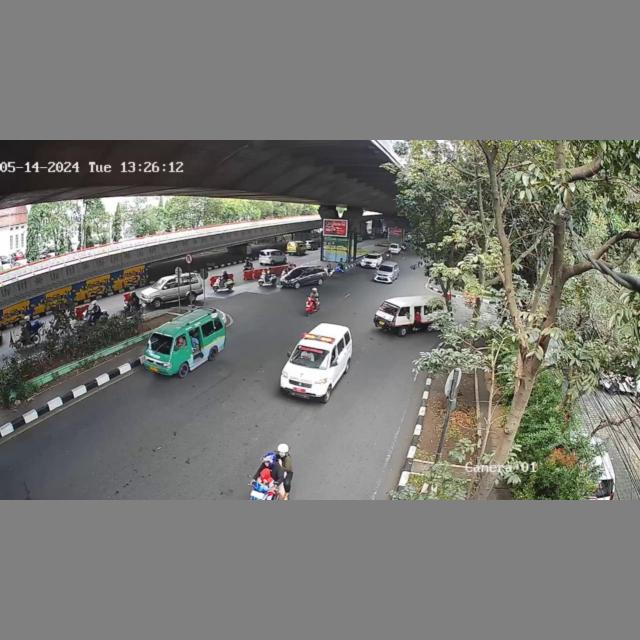windshield: (290, 344, 333, 368), (147, 331, 175, 357)
